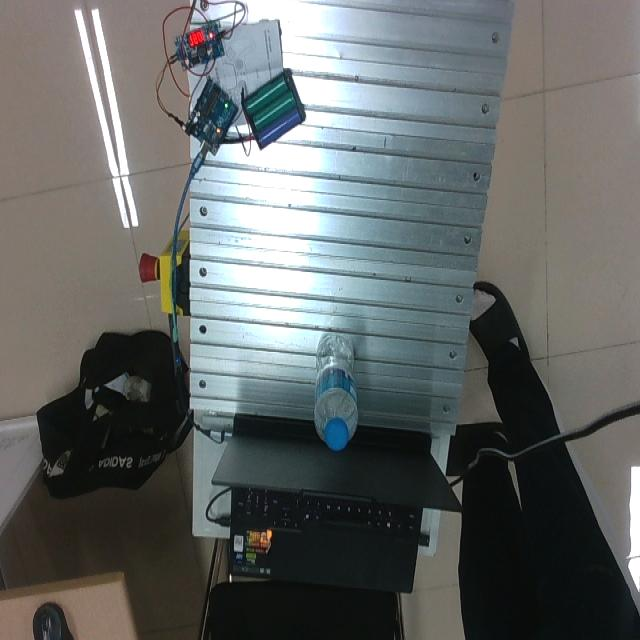lavie: (313, 334, 358, 449)
